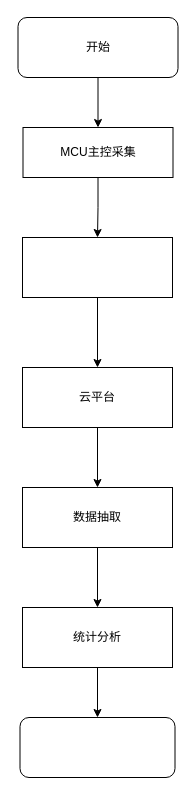
The diagram is 195 pixels wide and 795 high, and some of its shapes have lost their labels. The box of each missing label's shape, as (x1, y1, x2, y2) in pixels:
WIFI模组: (22, 236, 172, 298)
结束: (19, 716, 175, 778)
